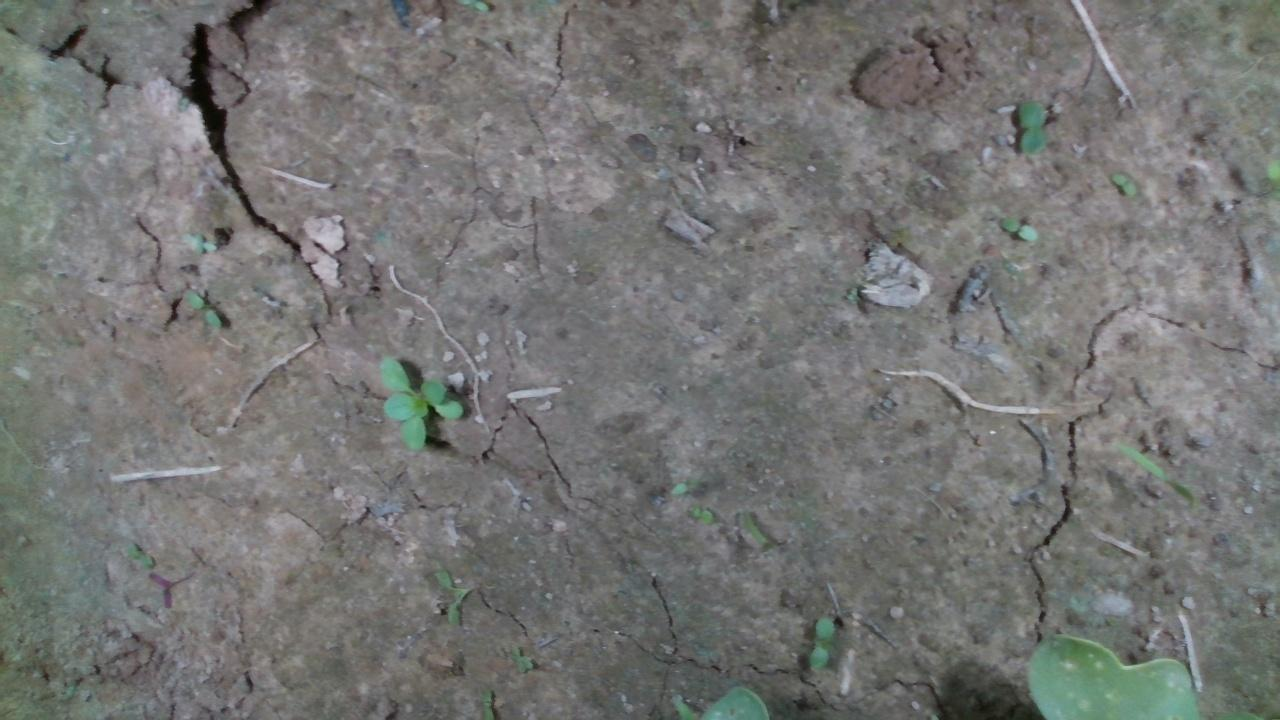weed: (1015, 96, 1044, 155), (806, 615, 834, 673), (183, 289, 222, 329), (998, 213, 1040, 242), (667, 468, 700, 495), (1108, 172, 1136, 198), (192, 233, 217, 256), (684, 505, 713, 524)
